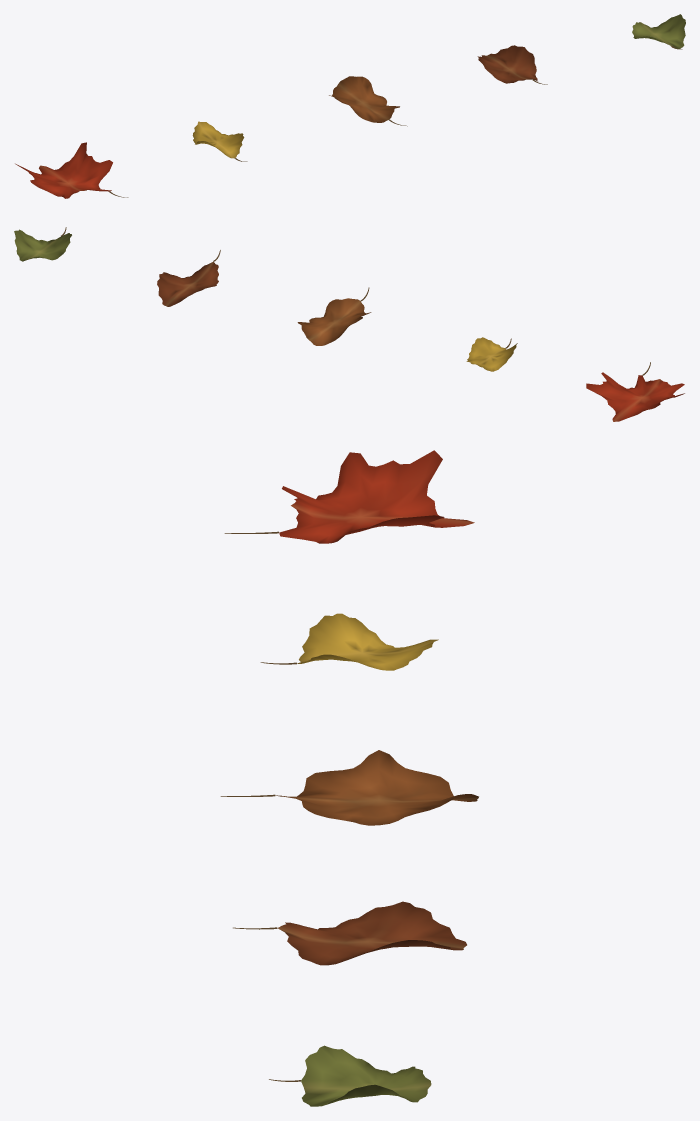
The model's file is leaves-BTDxxLgk.glb.
The picture shows the model from 3 angles, top to bottom: view 1: azimuth 30°, elevation 25°; view 2: azimuth 150°, elevation 25°; view 3: azimuth 270°, elevation 25°; orthographic projection. The views are drawn at different scales.
Visible parts, largest first — view 1: Leaf_Crimson_Maple, Leaf_Copper_Oak, Leaf_Russet_Beech, Leaf_Olive_Aspen, Leaf_Golden_Birch; view 2: Leaf_Crimson_Maple, Leaf_Copper_Oak, Leaf_Russet_Beech, Leaf_Olive_Aspen, Leaf_Golden_Birch; view 3: Leaf_Crimson_Maple, Leaf_Copper_Oak, Leaf_Russet_Beech, Leaf_Olive_Aspen, Leaf_Golden_Birch.
Boxes of the visible parts, box(x1,y1,x2,y2) form: Leaf_Crimson_Maple: box(15, 142, 128, 198); Leaf_Copper_Oak: box(329, 76, 407, 126); Leaf_Russet_Beech: box(477, 45, 547, 84); Leaf_Olive_Aspen: box(632, 14, 685, 49); Leaf_Golden_Birch: box(192, 121, 247, 161); Leaf_Crimson_Maple: box(586, 362, 684, 421); Leaf_Copper_Oak: box(297, 287, 371, 345); Leaf_Russet_Beech: box(157, 250, 220, 306); Leaf_Olive_Aspen: box(14, 227, 71, 261); Leaf_Golden_Birch: box(466, 337, 517, 371); Leaf_Crimson_Maple: box(224, 450, 474, 543); Leaf_Copper_Oak: box(220, 750, 478, 825); Leaf_Russet_Beech: box(233, 901, 466, 965); Leaf_Olive_Aspen: box(269, 1045, 431, 1106); Leaf_Golden_Birch: box(260, 613, 438, 670).
Size of the model in its own units: 0.9099 by 0.0297 by 0.1554.
